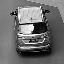mobil: (10, 4, 54, 55)
